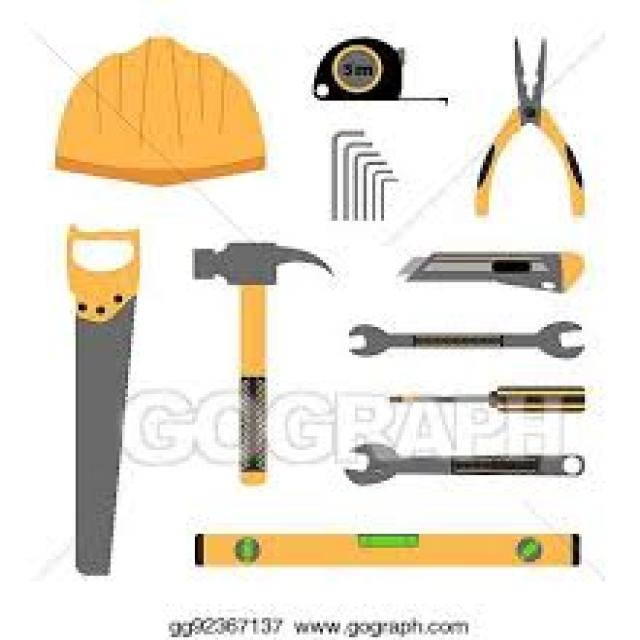hammer: (181, 225, 330, 484)
